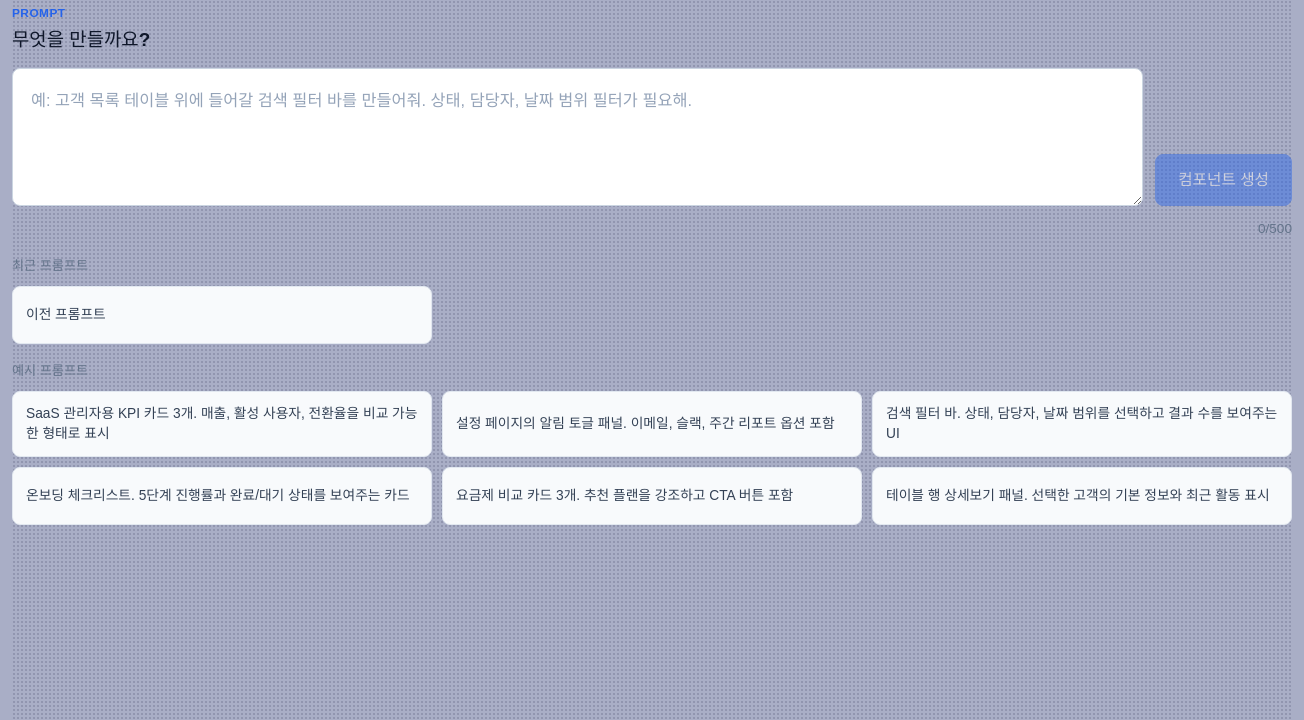
Test case: PromptInput › 히스토리 항목을 클릭하면 입력창에 채워진다
Click the button "이전 프롬프트": click(66, 315) [12,286,432,344]
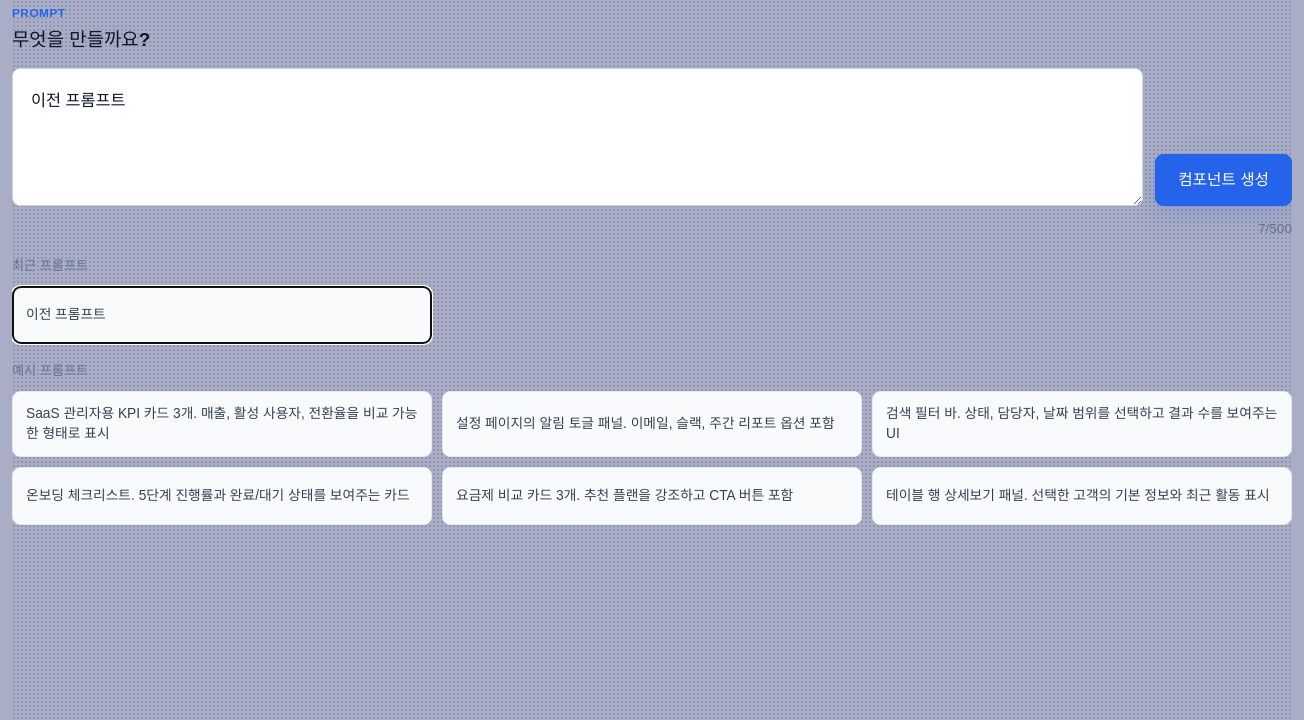
Check: the text box holds "이전 프롬프트", box [12,68,1143,206]
